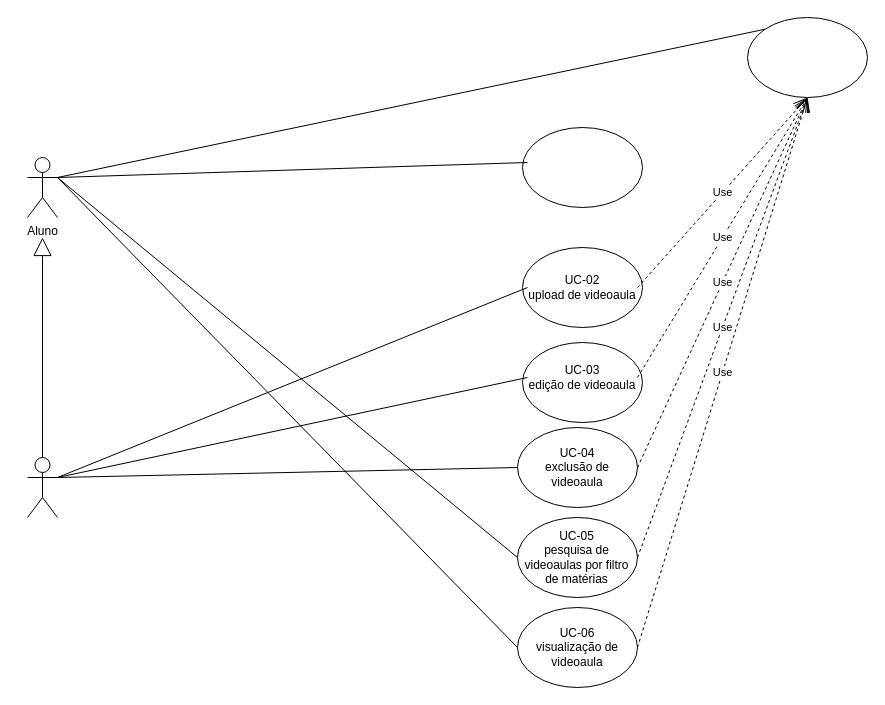
Some shapes in this 885 by 705 pixel diagram are drawn without their labels. The shapes that lost their labels are listed below. From the top down, each one's box as (x1, y1, x2, y2) in pixels, then its label:
(746, 16, 868, 98): UC-07 Login de Usuário
(522, 126, 642, 208): UC-01 cadastro de usuário
(26, 456, 58, 518): Professor
